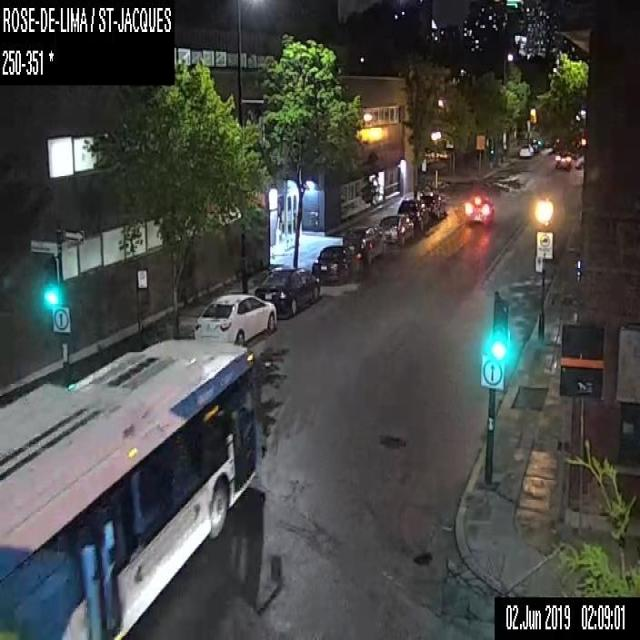bus: (0, 340, 260, 639)
vehicle: (194, 292, 278, 343), (253, 267, 320, 317), (342, 223, 388, 262), (311, 244, 359, 280), (378, 211, 415, 247), (464, 193, 496, 226), (395, 197, 430, 226), (420, 190, 451, 217), (552, 150, 572, 170), (517, 142, 534, 159)
